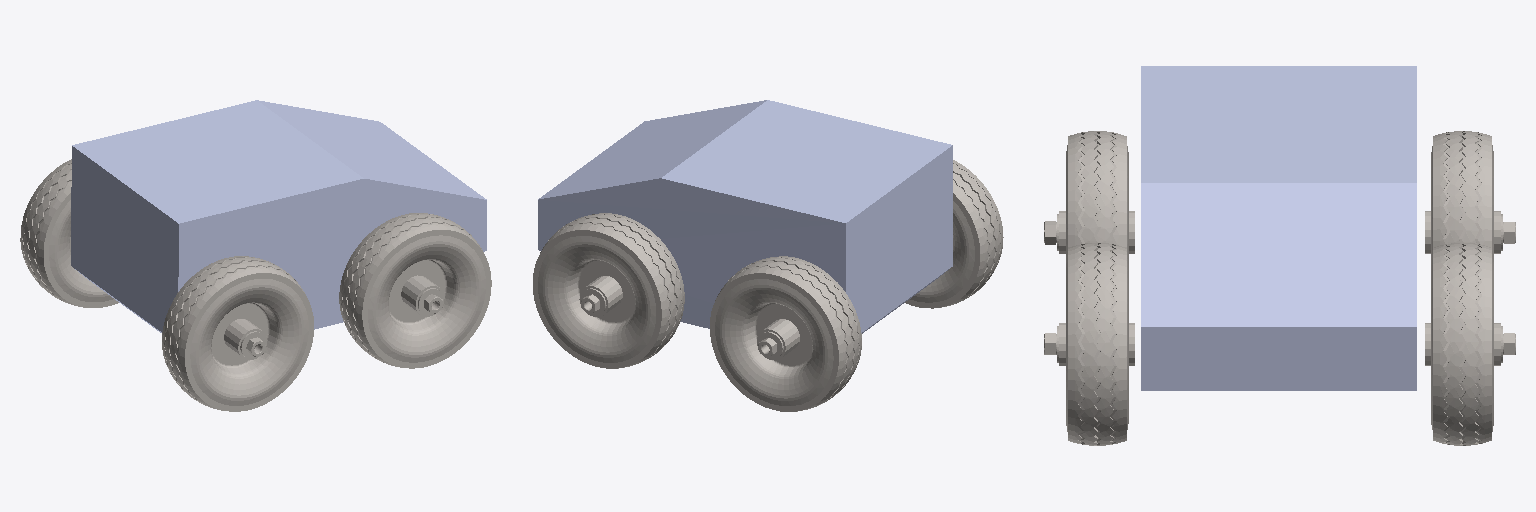
URDF robot description (lizi_description):
<?xml version="1.0" encoding="UTF-8"?>
<robot name="lizi_description"
  xmlns:controller="http://playerstage.sourceforge.net/gazebo/xmlschema/#controller" 
  xmlns:interface="http://playerstage.sourceforge.net/gazebo/xmlschema/#interface" 
  xmlns:sensor="http://playerstage.sourceforge.net/gazebo/xmlschema/#sensor" 
  xmlns:xacro="http://playerstage.sourceforge.net/gazebo/xmlschema/#interface">

  <!-- ================================================================= -->
  <!-- Xacro properties ================================================ -->
  <!-- ================================================================= -->

  <!-- <xacro:arg name="robot_id" value="1" /> -->

  <!-- ================================================================= -->
  <!-- URDF Model ====================================================== -->
  <!-- ================================================================= -->

  <link name="base_link">
    <inertial>
      <origin xyz="0.00740029995582005 -2.28205996951805E-05 -0.0185383676881744" rpy="0 0 0" />
      <mass value="2.737825665359006" />
      <inertia ixx="0.00443729503022144" ixy="-0.000146932517007627" ixz="0.000385689591614384" iyy="0.0102726152318081" iyz="2.25160881374285E-06" izz="0.0122176381167974" />
    </inertial>
    <visual>
      <origin xyz="0 0 0" rpy="0 0 0" />
      <geometry>
        <mesh filename="package://lizi_description/meshes/base_link_light.dae" />
      </geometry>
      <material name="">
        <color rgba="0.792156862745098 0.819607843137255 0.933333333333333 1" />
      </material>
    </visual>
    <collision>
      <origin xyz="0 0 0" rpy="0 0 0" />
      <geometry>
        <mesh filename="package://lizi_description/meshes/base_link_light.dae" />
      </geometry>
    </collision>
  </link>
  <link name="FL_wheel">
    <inertial>
      <origin xyz="1.22832299886966E-13 -0.0437656188895607 -2.26337004693988E-12" rpy="0 0 0" />
      <mass value="0.628863260607655" />
      <inertia ixx="0.0011775370427045" ixy="-5.42894125322565E-16" ixz="-1.02893303220018E-12" iyy="0.00215242721820778" iyz="-9.13724670627397E-14" izz="0.00117753703821153" />
    </inertial>
    <visual>
      <origin xyz="0 0 0" rpy="0 0 0" />
      <geometry>
        <mesh filename="package://lizi_description/meshes/FL_wheel.STL" />
      </geometry>
      <material name="">
        <color rgba="0.776470588235294 0.756862745098039 0.737254901960784 1" />
      </material>
    </visual>
    <collision>
      <origin xyz="0 0 0" rpy="0 0 0" />
      <geometry>
        <mesh filename="package://lizi_description/meshes/FL_wheel.STL" />
      </geometry>
    </collision>
  </link>
  <joint name="front_left_joint" type="continuous">
    <origin xyz="0.074003 0.1825 -0.04145" rpy="0 0 0" />
    <parent link="base_link" />
    <child link="FL_wheel" />
    <axis xyz="0 1 0" />
  </joint>
  <link name="RL_Wheel">
    <inertial>
      <origin xyz="-0.199999999999878 -0.0437656188895606 -2.26411944748151E-12" rpy="0 0 0" />
      <mass value="0.628863260607654" />
      <inertia ixx="0.0011775370427045" ixy="-5.42922210117761E-16" ixz="-1.02893248605437E-12" iyy="0.00215242721820777" iyz="-9.13722944336042E-14" izz="0.00117753703821152" />
    </inertial>
    <visual>
      <origin xyz="0 0 0" rpy="0 0 0" />
      <geometry>
        <mesh filename="package://lizi_description/meshes/RL_Wheel.STL" />
      </geometry>
      <material name="">
        <color rgba="0.776470588235294 0.756862745098039 0.737254901960784 1" />
      </material>
    </visual>
    <collision>
      <origin xyz="0 0 0" rpy="0 0 0" />
      <geometry>
        <mesh filename="package://lizi_description/meshes/RL_Wheel.STL" />
      </geometry>
    </collision>
  </link>
  <joint name="rear_left_joint" type="continuous">
    <origin xyz="-0.126 0.1825 -0.04145" rpy="0 0 0" />
    <parent link="base_link" />
    <child link="RL_Wheel" />
    <axis xyz="0 1 0" />
  </joint>
  <link name="FR_Wheel">
    <inertial>
      <origin xyz="-2.04403161063738E-12 0.0437656188895606 -9.79660796929238E-13" rpy="0 0 0" />
      <mass value="0.628863260607655" />
      <inertia ixx="0.00117753703838158" ixy="7.98742831623608E-14" ixz="1.33933241813037E-12" iyy="0.00215242721820778" iyz="4.43766701026677E-14" izz="0.00117753704253445" />
    </inertial>
    <visual>
      <origin xyz="0 0 0" rpy="0 0 0" />
      <geometry>
        <mesh filename="package://lizi_description/meshes/FR_Wheel.STL" />
      </geometry>
      <material name="">
        <color rgba="0.776470588235294 0.756862745098039 0.737254901960784 1" />
      </material>
    </visual>
    <collision>
      <origin xyz="0 0 0" rpy="0 0 0" />
      <geometry>
        <mesh filename="package://lizi_description/meshes/FR_Wheel.STL" />
      </geometry>
    </collision>
  </link>
  <joint name="front_right_joint" type="continuous">
    <origin xyz="0.074003 -0.1825 -0.04145" rpy="-1.0694E-16 1.4202E-32 0" />
    <parent link="base_link" />
    <child link="FR_Wheel" />
    <axis xyz="0 1 0" />
  </joint>
  <link name="RR_Wheel">
    <inertial>
      <origin xyz="2.59875454489134E-12 0.0437656188895579 1.03773240001104E-12" rpy="0 0 0" />
      <mass value="0.628863260607702" />
      <inertia ixx="0.00117753704180015" ixy="-9.03407278285203E-14" ixz="-1.98182107521996E-12" iyy="0.00215242721820778" iyz="-2.17479773270897E-15" izz="0.00117753703911603" />
    </inertial>
    <visual>
      <origin xyz="0 0 0" rpy="0 0 0" />
      <geometry>
        <mesh filename="package://lizi_description/meshes/RR_Wheel.STL" />
      </geometry>
      <material name="">
        <color rgba="0.776470588235294 0.756862745098039 0.737254901960784 1" />
      </material>
    </visual>
    <collision>
      <origin xyz="0 0 0" rpy="0 0 0" />
      <geometry>
        <mesh filename="package://lizi_description/meshes/RR_Wheel.STL" />
      </geometry>
    </collision>
  </link>
  <joint name="rear_right_joint" type="continuous">
    <origin xyz="-0.126 -0.1825 -0.04145" rpy="-1.0694E-16 1.4202E-32 0" />
    <parent link="base_link" />
    <child link="RR_Wheel" />
    <axis xyz="0 1 0" />
  </joint>


  <!-- ================================================================= -->
  <!-- Gazebo references =============================================== -->
  <!-- ================================================================= -->


  <gazebo reference="base_link">
    <material>Gazebo/Gold</material>
  </gazebo>

  <gazebo reference="RR_Wheel">
    <material>Gazebo/FlatBlack</material>
  </gazebo>

  <gazebo reference="RL_Wheel">
    <material>Gazebo/FlatBlack</material>
  </gazebo>

  <gazebo reference="FR_Wheel">
    <material>Gazebo/FlatBlack</material>
  </gazebo>

  <gazebo reference="FL_wheel">
    <material>Gazebo/FlatBlack</material>
  </gazebo>

  <gazebo>
    <link name="hokuyo_link">
      <pose>0 0 0.09 0 0 0</pose>
      <inertial>
        <mass>0.1</mass>
        <inertia>
          <ixx>0.000166666666</ixx> <ixy>0</ixy> <ixz>0</ixz>
                       <iyy>0.000166666666</iyy> <iyz>0</iyz>
                                    <izz>0.000166666666</izz>
        </inertia>
      </inertial>
      <visual name="visual">
        <geometry>
          <mesh>
            <uri>model://hokuyo/meshes/hokuyo.dae</uri>
          </mesh>
        </geometry>
      </visual>
      <sensor name="laser" type="ray">
        <always_on>1</always_on>
        <update_rate>40</update_rate>       
        <visualize>false</visualize>

        <pose>0.00 0 0.0175 0 0 0</pose>
        <ray>
          <scan>
            <horizontal>
              <samples>1040</samples>
              <resolution>1</resolution>
              <min_angle>-2.26889</min_angle>
              <max_angle>2.268899</max_angle>
            </horizontal>
          </scan>
          <range>
            <min>0.08</min>
            <max>30</max>
            <resolution>0.01</resolution>
          </range>
          <!-- Add noise to each beam -->
          <!--<noise>
             <type>gaussian</type>
             <mean>0.0</mean>
             <stddev>0.01</stddev>
          </noise>-->
        </ray>

        <plugin name="laser" filename="libRayPlugin.so" />        

        <plugin name="gazebo_ros_laser_controller" filename="libgazebo_ros_laser.so">          
          <alwaysOn>true</alwaysOn>
          <updateRate>40</updateRate>
          <topicName>base_scan</topicName>
          <frameName>laser_link</frameName>          
        </plugin>                
      </sensor>
    </link>

    <joint name="body_to_hokuyo" type="revolute">
      <child>hokuyo_link</child>
      <parent>base_link</parent>
      <axis>
        <xyz>0 0 1</xyz>
        <limit>
          <upper>0</upper>
          <lower>0</lower>
        </limit>
      </axis>
    </joint>

  </gazebo>


  <gazebo>
    <plugin name="skid_steer_drive_controller" filename="libgazebo_ros_skid_steer_drive.so">
      <updateRate>100.0</updateRate>     
      <leftFrontJoint>front_left_joint</leftFrontJoint>
      <rightFrontJoint>front_right_joint</rightFrontJoint>
      <leftRearJoint>rear_left_joint</leftRearJoint>
      <rightRearJoint>rear_right_joint</rightRearJoint>
      <wheelSeparation>0.255</wheelSeparation>
      <wheelDiameter>0.154</wheelDiameter>
      <odometryTopic>odom</odometryTopic>
      <odometryFrame>odom</odometryFrame>
      <robotBaseFrame>base_link</robotBaseFrame>
      <torque>500</torque>
      <commandTopic>cmd_vel</commandTopic>
      <broadcastTF>1</broadcastTF>
    </plugin>
  

     <plugin name="p3d_base_controller" filename="libgazebo_ros_p3d.so">
       <alwaysOn>true</alwaysOn>
       <updateRate>100.0</updateRate>
       <bodyName>base_link</bodyName>
       <topicName>base_pose_ground_truth</topicName>
       <gaussianNoise>0</gaussianNoise>
       <frameName>/map</frameName>
       <xyzOffsets>0 0 0</xyzOffsets> 
       <rpyOffsets>0 0 0</rpyOffsets>    
     </plugin>   
      
  </gazebo>
 
</robot>

--- Facts derived from the render (not from the file) ---
3 views of the same robot in one strip: view 1: azimuth 30°, elevation 25°; view 2: azimuth 150°, elevation 25°; view 3: azimuth 270°, elevation 25° (orthographic).
Robot: lizi_description — 5 links, 4 joints (4 continuous); root link base_link; default pose: all joints at 0.
Links seen in each view (by area): view 1: base_link, RR_Wheel, FR_Wheel, RL_Wheel; view 2: base_link, RL_Wheel, FL_wheel, RR_Wheel; view 3: base_link, FL_wheel, FR_Wheel, RR_Wheel, RL_Wheel.
Link boxes in pixels (bbox=[...]): base_link: bbox=[71, 100, 486, 332]; RR_Wheel: bbox=[162, 256, 313, 411]; FR_Wheel: bbox=[339, 213, 491, 368]; RL_Wheel: bbox=[20, 159, 118, 307]; base_link: bbox=[538, 100, 952, 333]; RL_Wheel: bbox=[710, 256, 861, 411]; FL_wheel: bbox=[533, 213, 684, 368]; RR_Wheel: bbox=[905, 160, 1003, 308]; base_link: bbox=[1141, 66, 1416, 390]; FL_wheel: bbox=[1425, 243, 1515, 445]; FR_Wheel: bbox=[1044, 243, 1134, 445]; RR_Wheel: bbox=[1044, 131, 1134, 263]; RL_Wheel: bbox=[1425, 131, 1515, 263].
Size in the robot's own frame: 0.3771 by 0.3566 by 0.1938 metres.
Meshes: 5 distinct files referenced, 5 mesh visuals loaded (4 binary STL, 1 Collada DAE).
